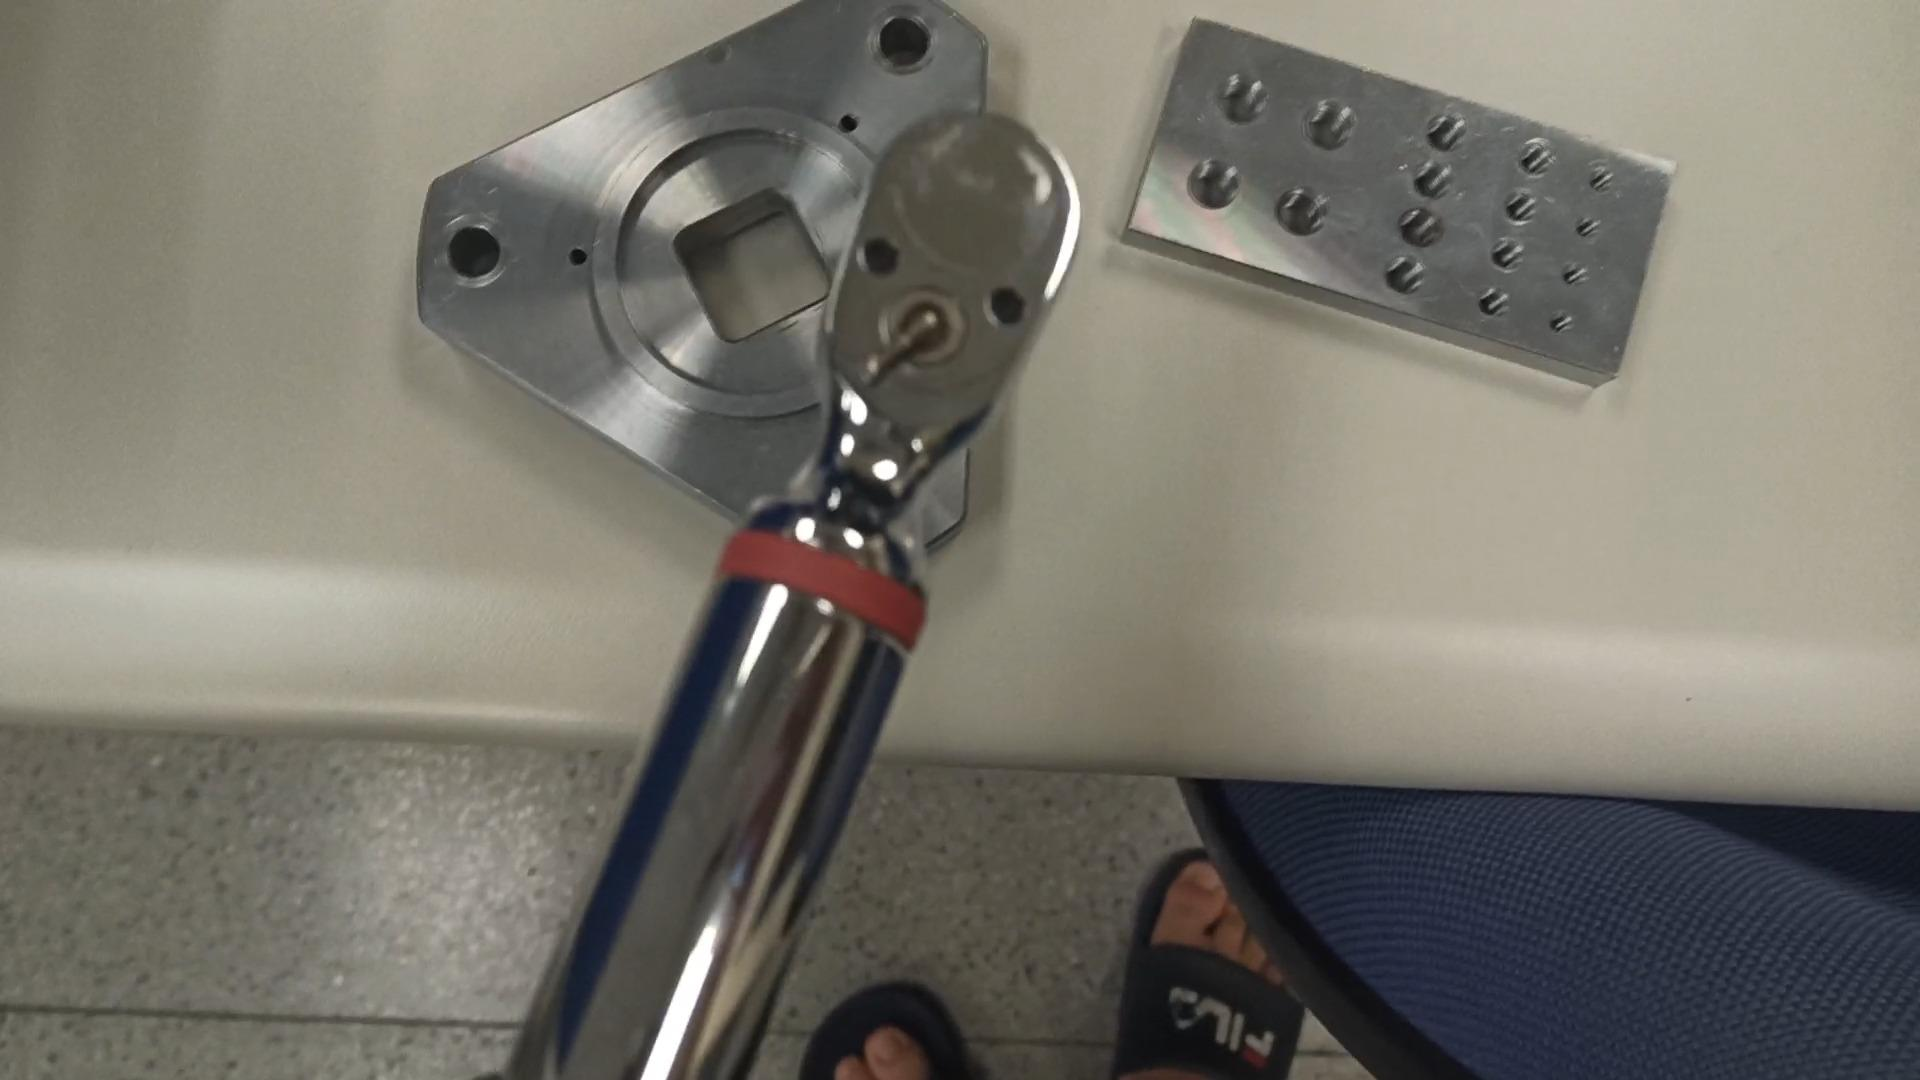Tool: (618, 115, 1084, 579)
hole: (865, 8, 940, 80), (446, 220, 513, 297), (1182, 156, 1249, 215), (1302, 96, 1365, 158), (1275, 183, 1338, 243), (1213, 73, 1270, 131), (1408, 157, 1461, 200), (1396, 207, 1449, 251), (1387, 255, 1435, 299), (1423, 112, 1469, 156), (1515, 138, 1557, 179), (1487, 239, 1530, 276), (1503, 189, 1543, 227), (1477, 286, 1515, 323), (1582, 162, 1611, 195), (1545, 310, 1577, 339), (1557, 261, 1588, 289), (1572, 214, 1600, 243)
